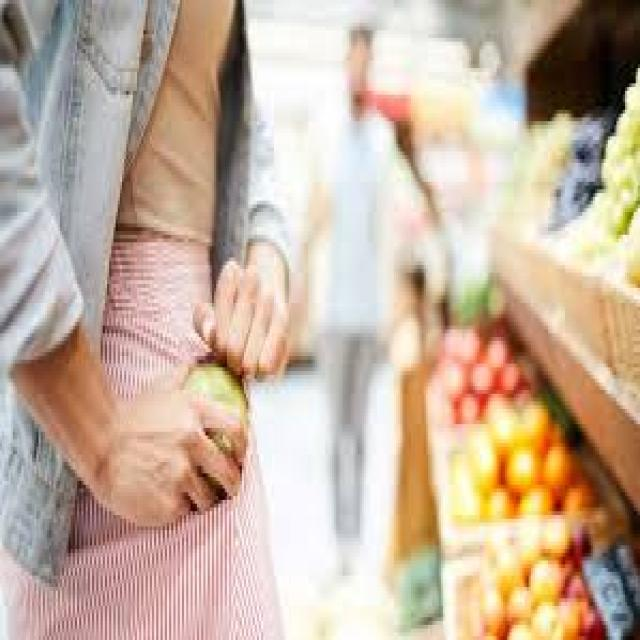Shoplifting: (0, 0, 309, 640)
